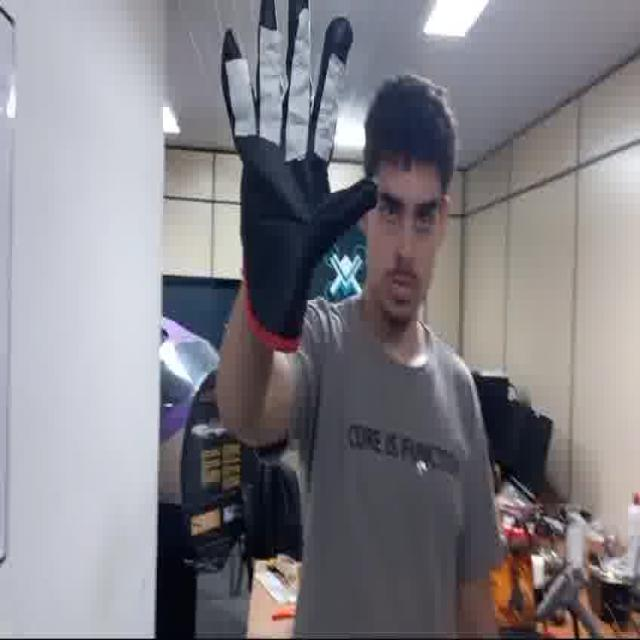Gloves: (221, 0, 378, 343)
